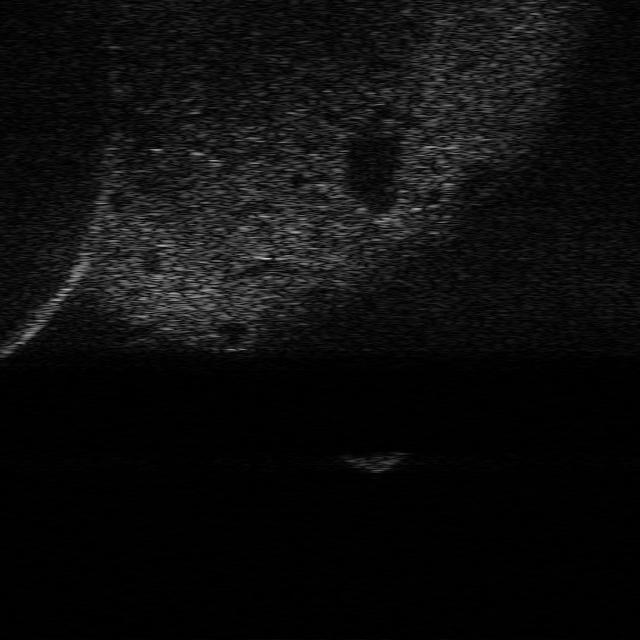cube: (343, 446, 405, 474)
